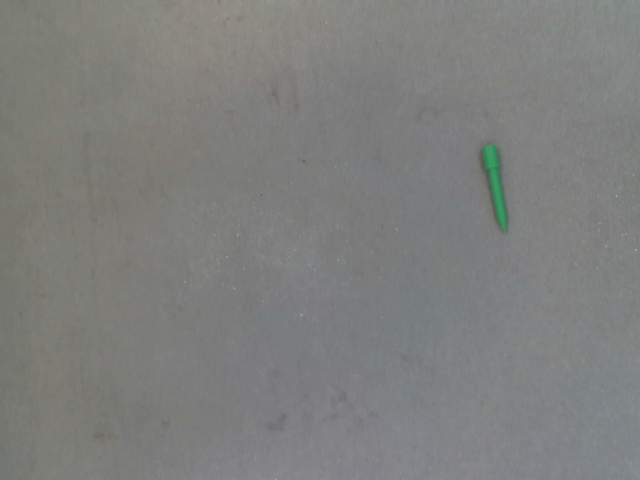Probe: (479, 138, 512, 239)
